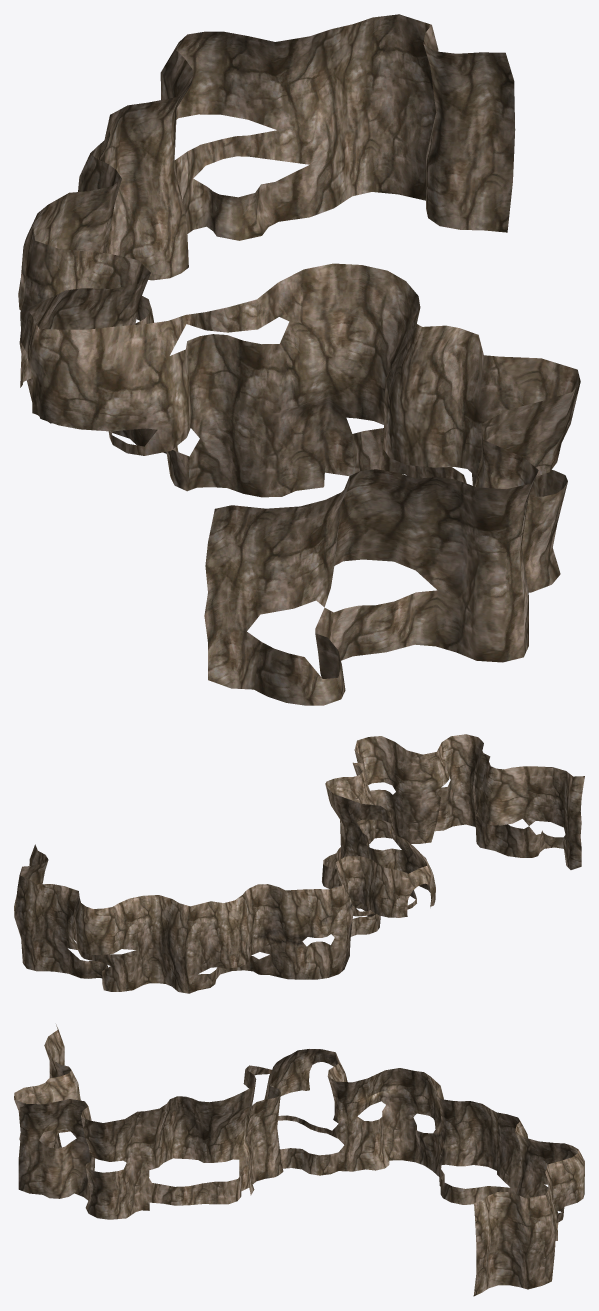
The model's file is EKH_CAVERNS_PS_CA_OBJECT32.fbx.
3 renders of one model, top to bottom at view 1: azimuth 30°, elevation 25°; view 2: azimuth 150°, elevation 25°; view 3: azimuth 270°, elevation 25°, orthographic. The views are drawn at different scales.
Parts seen in each view (by area): view 1: EKH_CAVERNS_PS_CA_OBJECT32; view 2: EKH_CAVERNS_PS_CA_OBJECT32; view 3: EKH_CAVERNS_PS_CA_OBJECT32.
Boxes of the visible parts, x1,y1,x2,y2 form: EKH_CAVERNS_PS_CA_OBJECT32: (18, 14, 580, 705); EKH_CAVERNS_PS_CA_OBJECT32: (14, 734, 584, 993); EKH_CAVERNS_PS_CA_OBJECT32: (14, 1024, 584, 1296).
Size of the model in its own units: 367234 by 108357 by 495380.
Materials: 1 (1 with a texture image).
